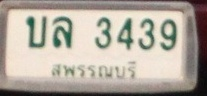txt21: (25, 15, 48, 49)
txt31: (51, 15, 73, 50)
